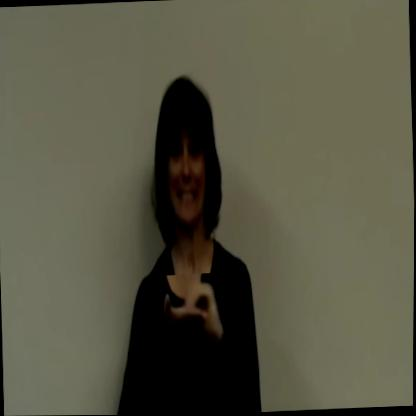ExcuseMe: (150, 273, 229, 351)
